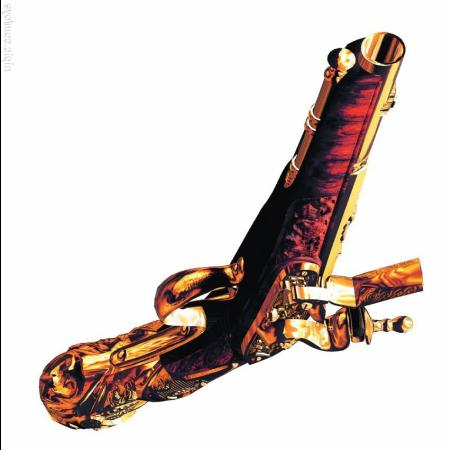Pistol: (42, 32, 426, 432)
